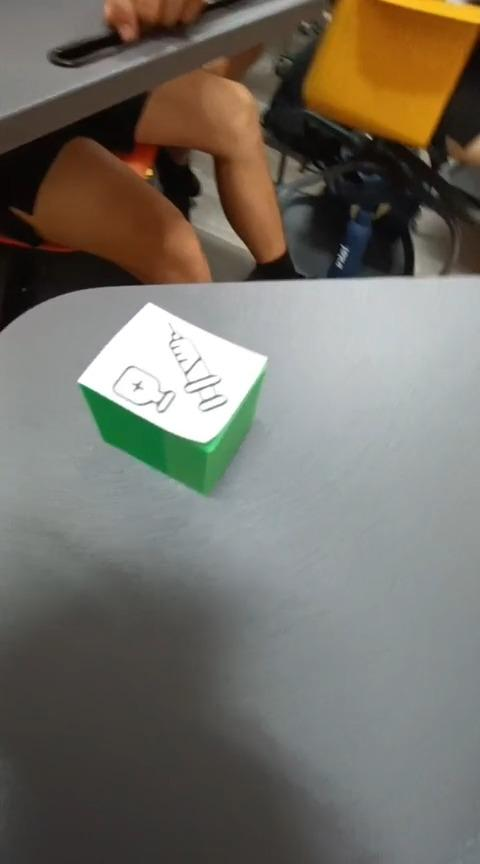antiseptic cream: (75, 300, 268, 496)
